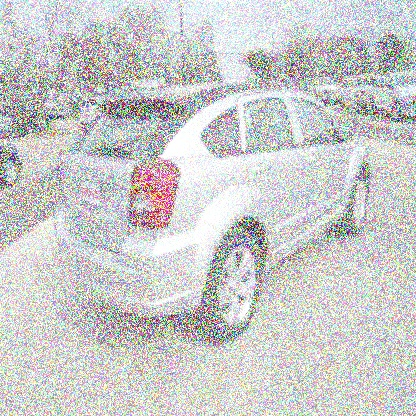Vehicle: (54, 85, 370, 342)
